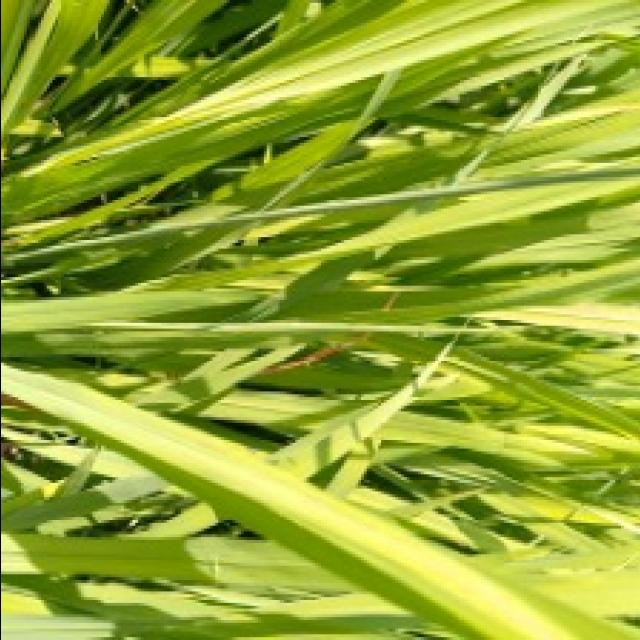Unhealthy: (257, 332, 373, 374), (379, 294, 399, 309)
